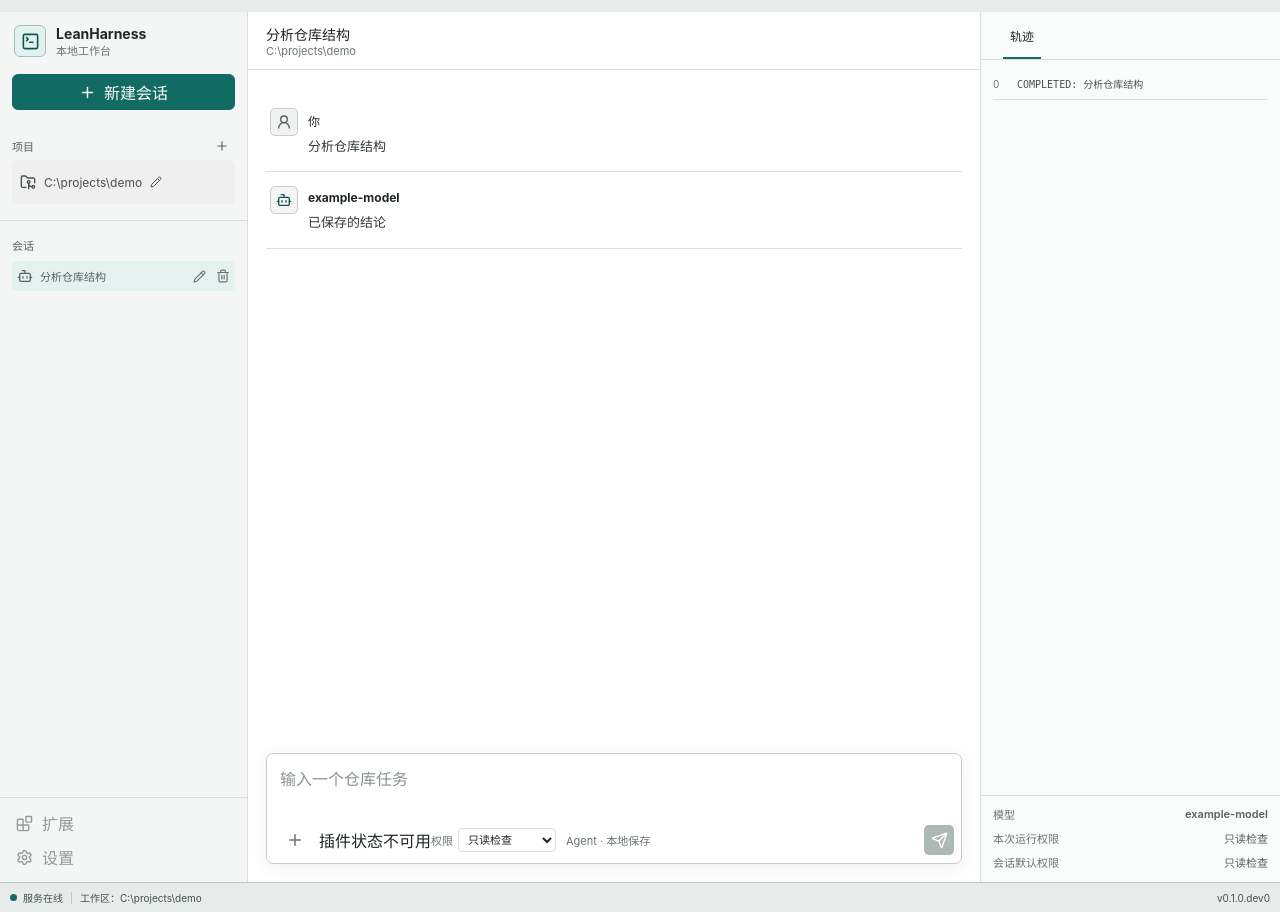
Test: application shell › rolls back the permission selector when persistence fails
Check: the text "已保存的结论" is shown, box [308, 214, 386, 230]
Select "受控直接执行" in the dropdown labelled "权限" at (507, 840), box [458, 828, 556, 852]
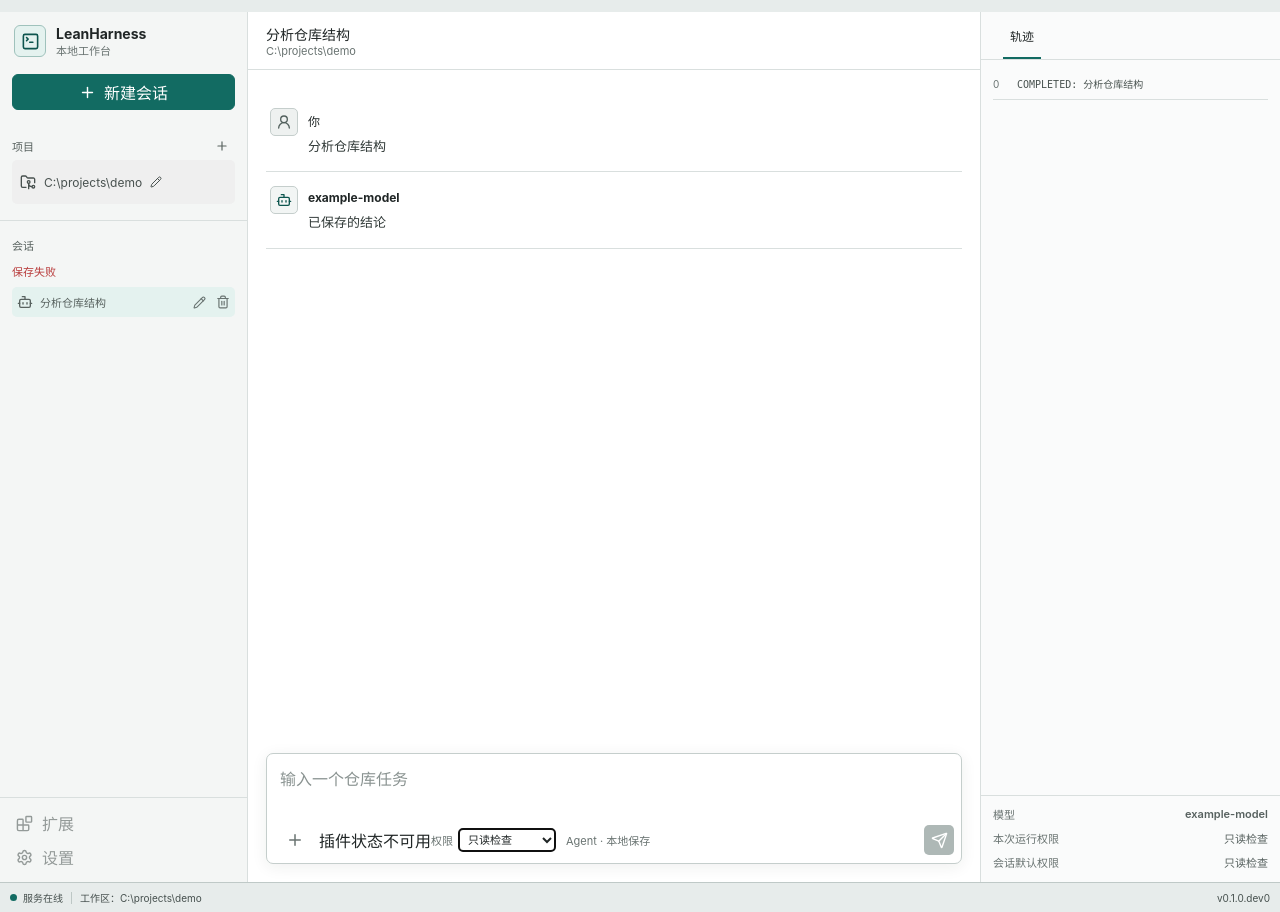
Check: the text "保存失败" is shown, box [12, 265, 56, 279]
